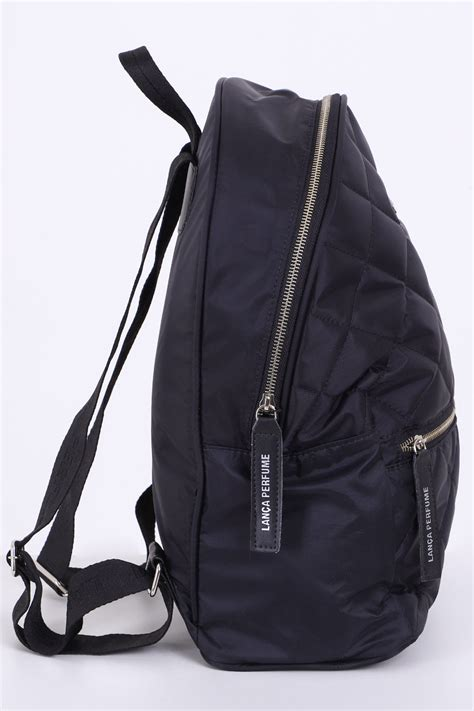nylon: (8, 44, 459, 675)
